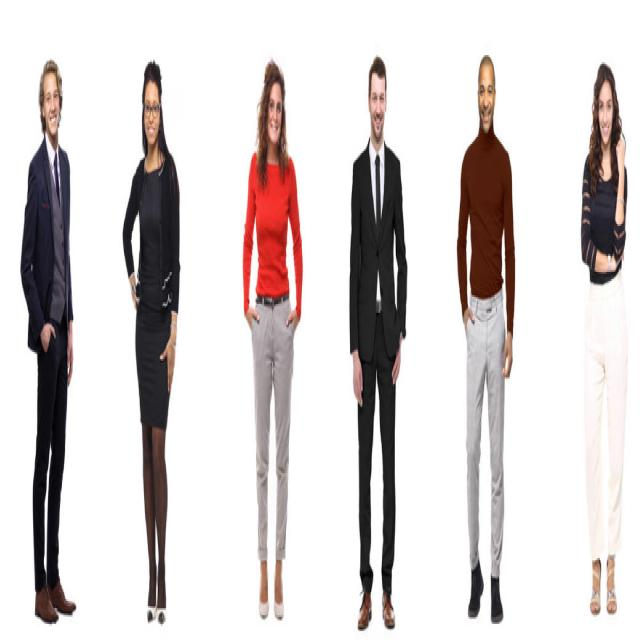adult: (348, 52, 408, 632), (243, 55, 304, 620), (457, 52, 516, 628), (122, 59, 181, 626), (19, 55, 77, 628), (580, 58, 630, 612)
